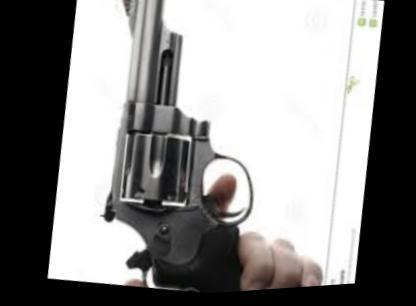pistol: (74, 0, 354, 299)
